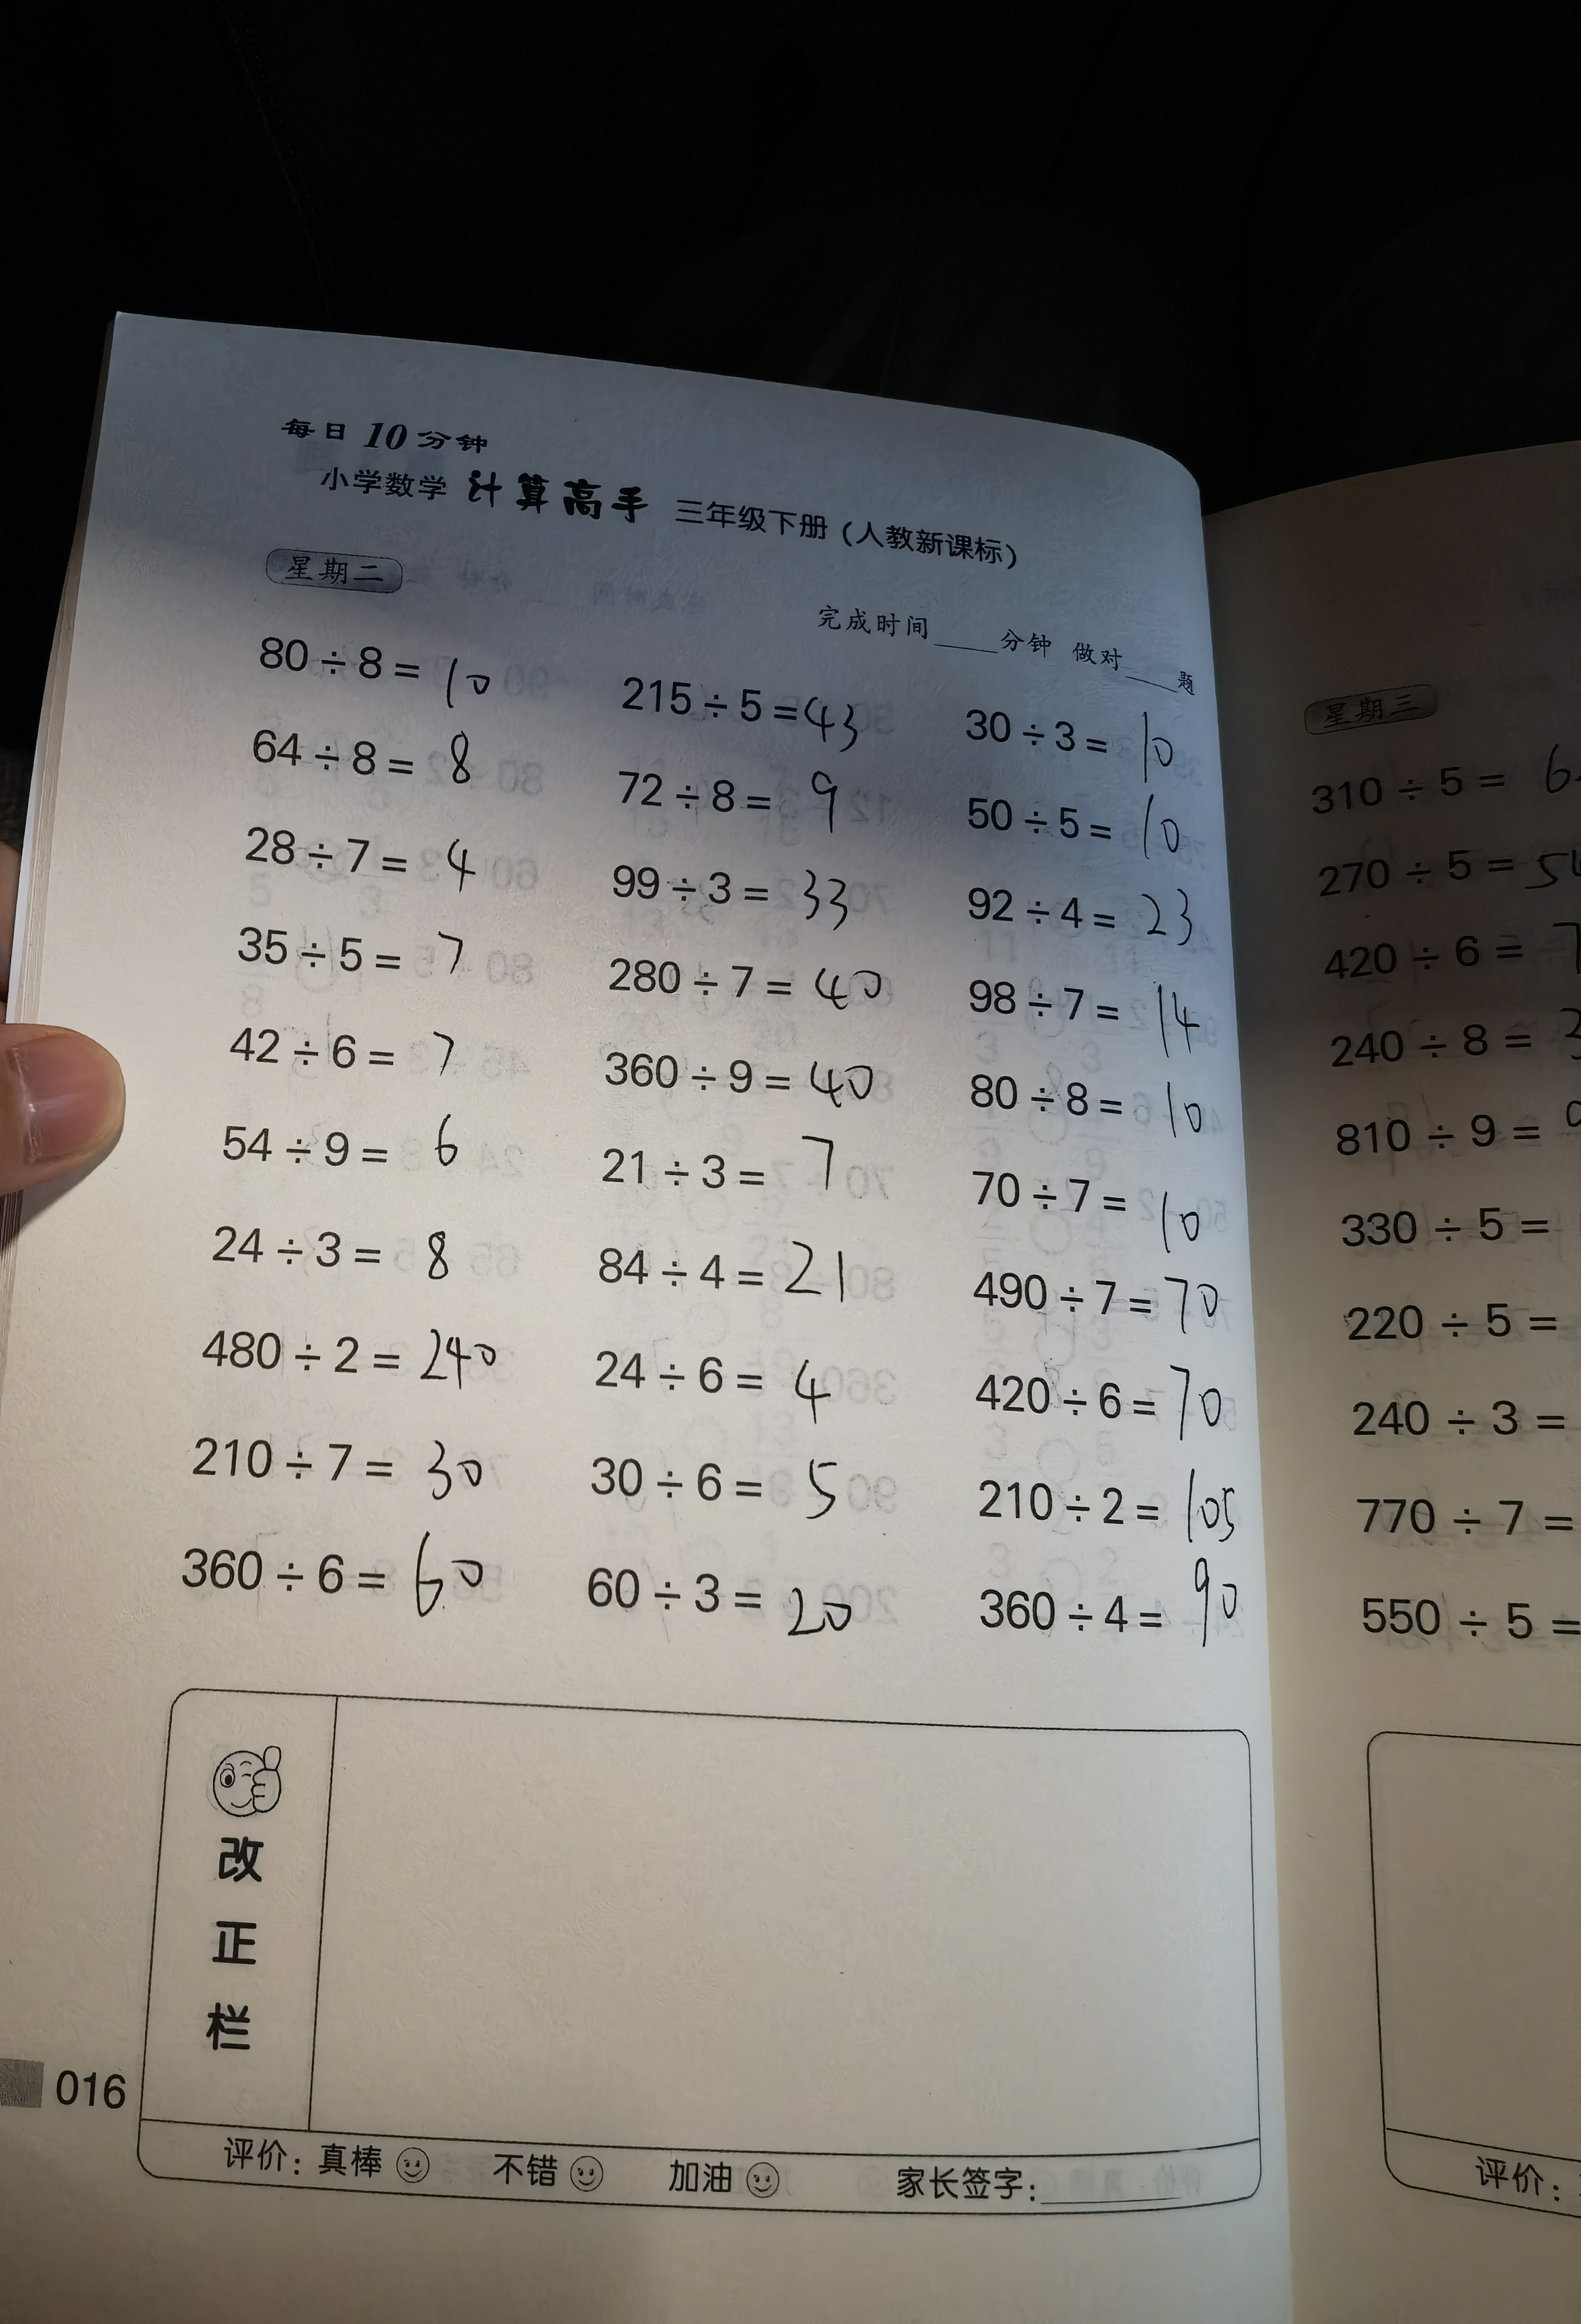equation: (556, 1548, 912, 1655), (226, 598, 506, 718), (120, 1537, 508, 1623), (932, 1445, 1251, 1549), (161, 1415, 496, 1511), (164, 1309, 508, 1394), (609, 646, 866, 759), (191, 1110, 499, 1202), (233, 810, 506, 902), (955, 971, 1225, 1062), (582, 849, 880, 932), (935, 1565, 1249, 1643), (187, 1205, 457, 1295), (573, 1230, 870, 1311), (946, 693, 1191, 791), (566, 1449, 868, 1526), (589, 948, 891, 1023), (969, 1168, 1212, 1262), (556, 1346, 840, 1426), (595, 1133, 873, 1212), (219, 912, 496, 992), (960, 1368, 1251, 1442), (591, 1041, 888, 1112), (953, 877, 1210, 956), (940, 1274, 1244, 1341), (603, 755, 859, 835), (240, 723, 498, 798), (221, 1015, 508, 1075), (972, 1075, 1218, 1143), (963, 787, 1191, 856)
